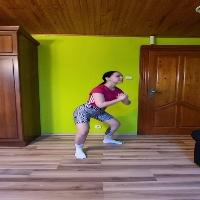squats: (57, 65, 142, 160)
